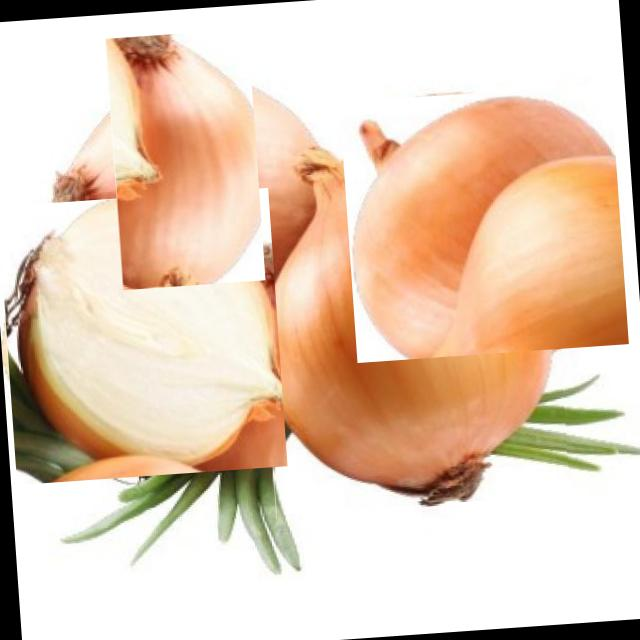Onion: (250, 135, 570, 519), (0, 189, 289, 483), (351, 91, 614, 358), (116, 34, 254, 289)
